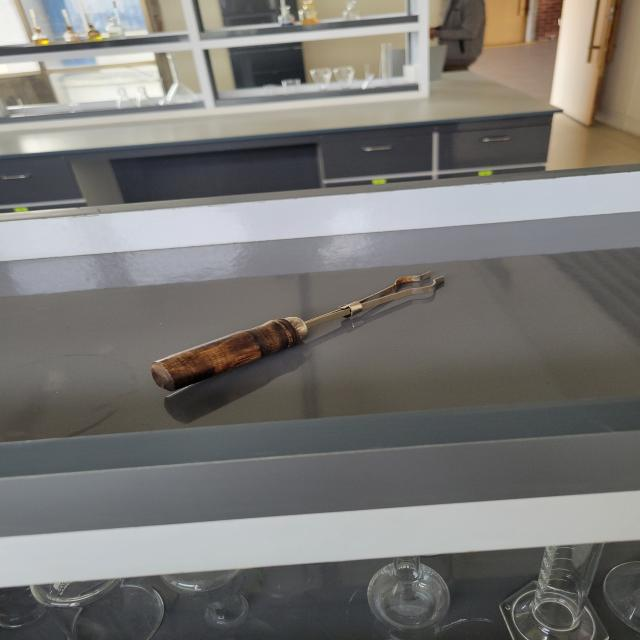TestTube_Holder: (114, 250, 472, 409)
